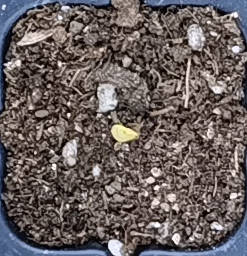chilli seed: (110, 123, 137, 142)
